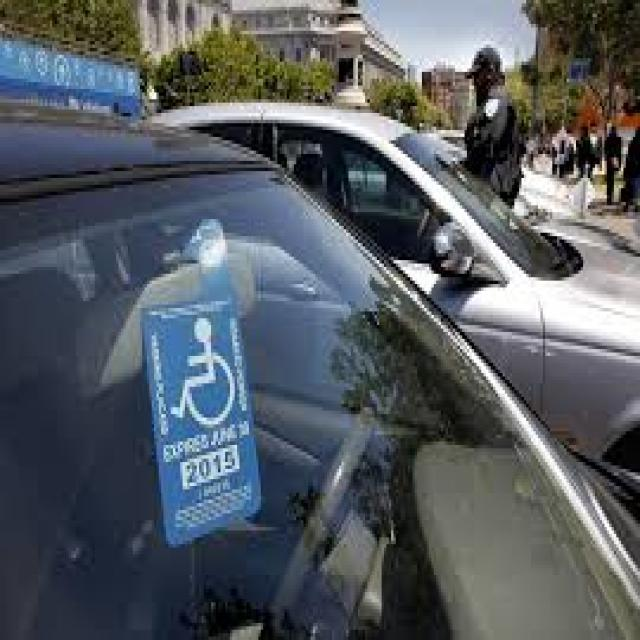car-handicap-placard: (175, 320, 235, 427)
